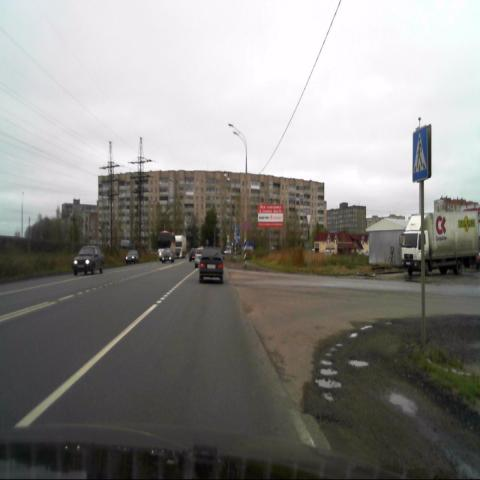5_19_1: (412, 124, 431, 182)
